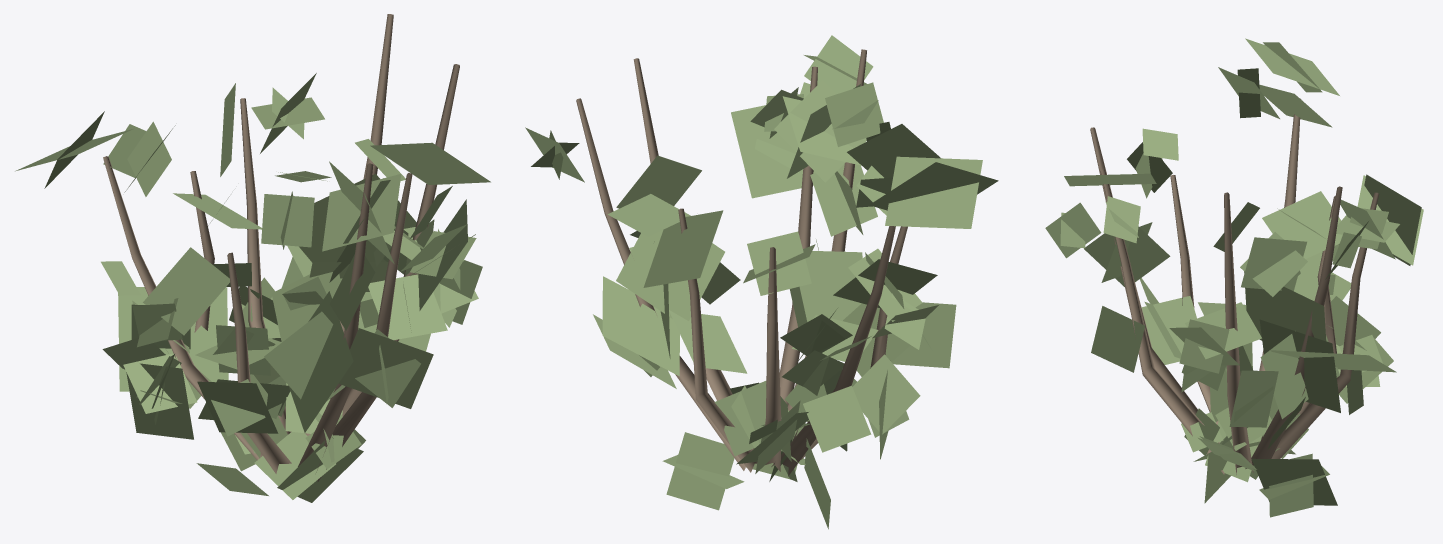
File: bush.glb
3 views of the same model, side by side, from view 1: azimuth 30°, elevation 25°; view 2: azimuth 150°, elevation 25°; view 3: azimuth 270°, elevation 25° (orthographic). The views are drawn at different scales.
Visible parts, largest first — view 1: leaf, wood; view 2: leaf, wood; view 3: leaf, wood.
Boxes of the visible parts, x1,y1,x2,y2 form: leaf: (15,73,490,502); wood: (103,14,459,481); leaf: (525,35,998,529); wood: (576,49,907,476); leaf: (1045,38,1423,517); wood: (1090,98,1379,474).
Bounding box in the file's own units: 1.71 × 1.67 × 1.5.
